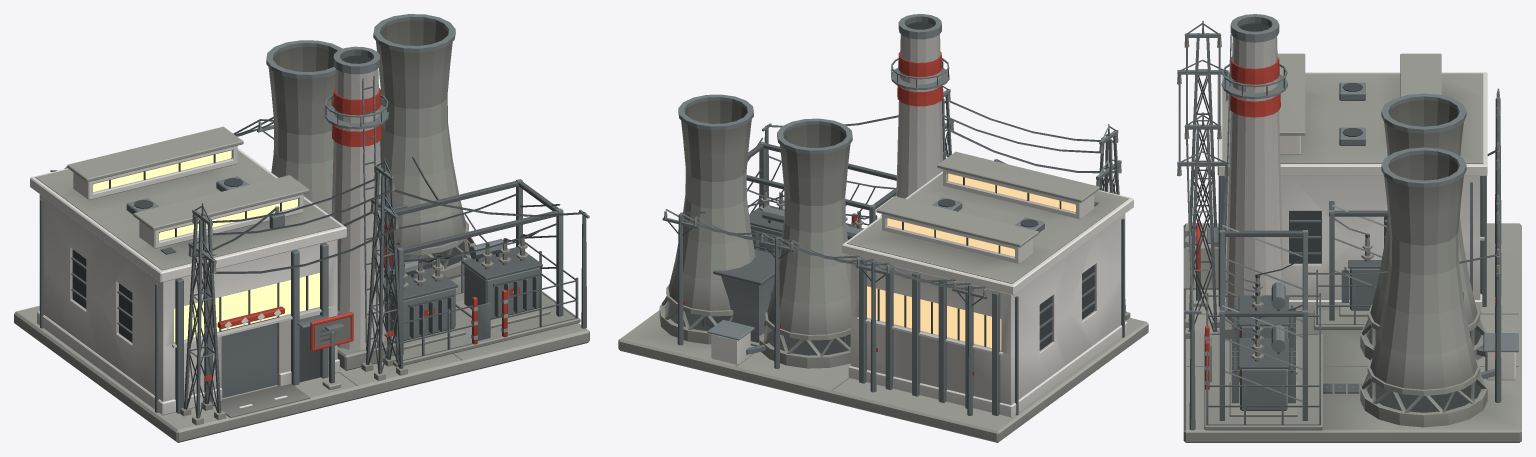
The model's file is power-station.glb.
The picture shows the model from 3 angles, left to right: view 1: azimuth 30°, elevation 25°; view 2: azimuth 150°, elevation 25°; view 3: azimuth 270°, elevation 25°; orthographic projection. The views are drawn at different scales.
Parts seen in each view (by area): view 1: Power, Bare, Stack; view 2: Power, Bare, Stack; view 3: Power, Bare, Stack.
Boxes of the visible parts, x1=… form: Power: x1=30, y1=14, x2=589, y2=425; Bare: x1=14, y1=90, x2=589, y2=442; Stack: x1=325, y1=46, x2=396, y2=370; Power: x1=659, y1=86, x2=1133, y2=417; Bare: x1=618, y1=137, x2=1148, y2=442; Stack: x1=891, y1=14, x2=949, y2=198; Power: x1=1177, y1=20, x2=1518, y2=430; Bare: x1=1183, y1=88, x2=1521, y2=442; Stack: x1=1221, y1=14, x2=1287, y2=339.
Bounding box in the file's own units: 16.6 × 11.88 × 11.62.
